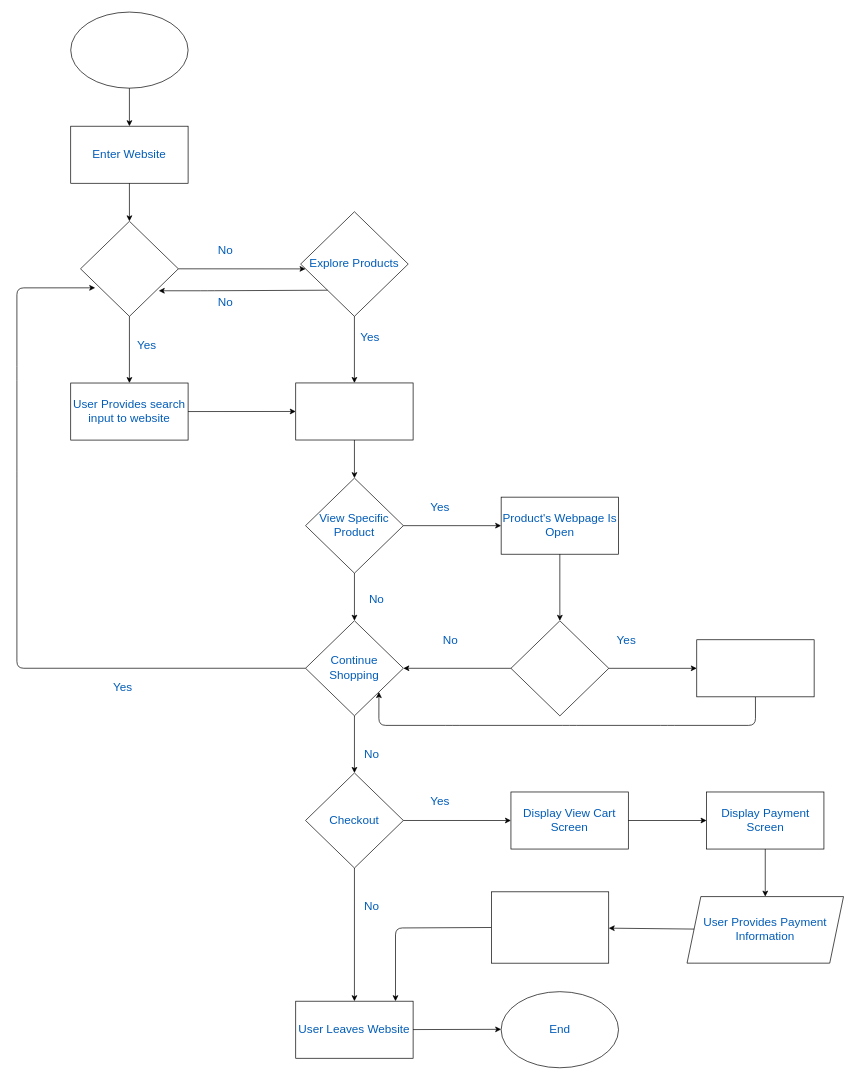
Some shapes in this 856 by 1080 pixel diagram are drawn without their labels. The centre of each missing label's shape, as x and y in pixels:
"Add Product to Cart" goes at [559,668].
"After User Pays, Display Order Confirmation Screen and Send Email" goes at [550,927].
"Display Product Added to Cart Confirmation" goes at [755,668].
"Search for Product" goes at [129,268].
"Start" goes at [129,49].
"User Looks Over Products" goes at [354,411].
